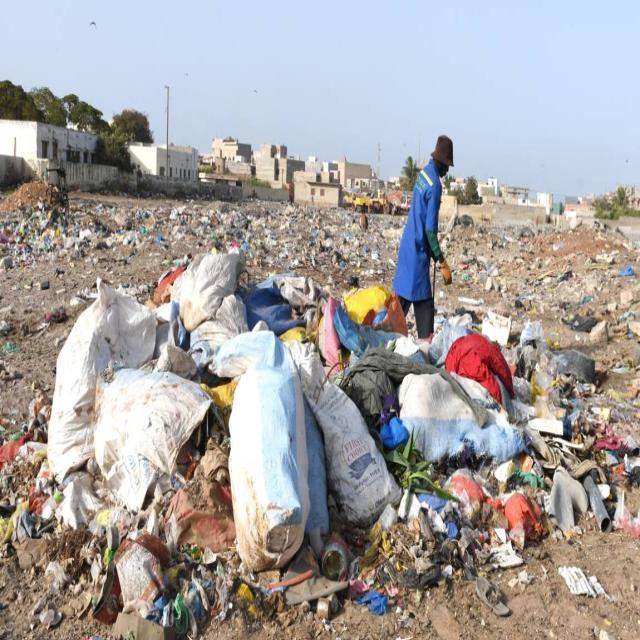garbage: (25, 182, 388, 626)
